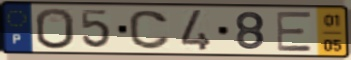4: (179, 8, 214, 53)
5: (79, 9, 113, 50)
8: (234, 10, 267, 52)
C: (127, 9, 173, 51)
E: (274, 10, 315, 53)
O: (33, 7, 77, 51)
